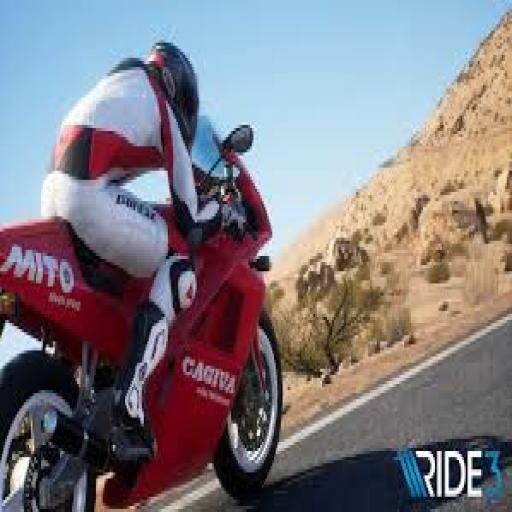helmet: (0, 116, 284, 506), (146, 36, 200, 150)
